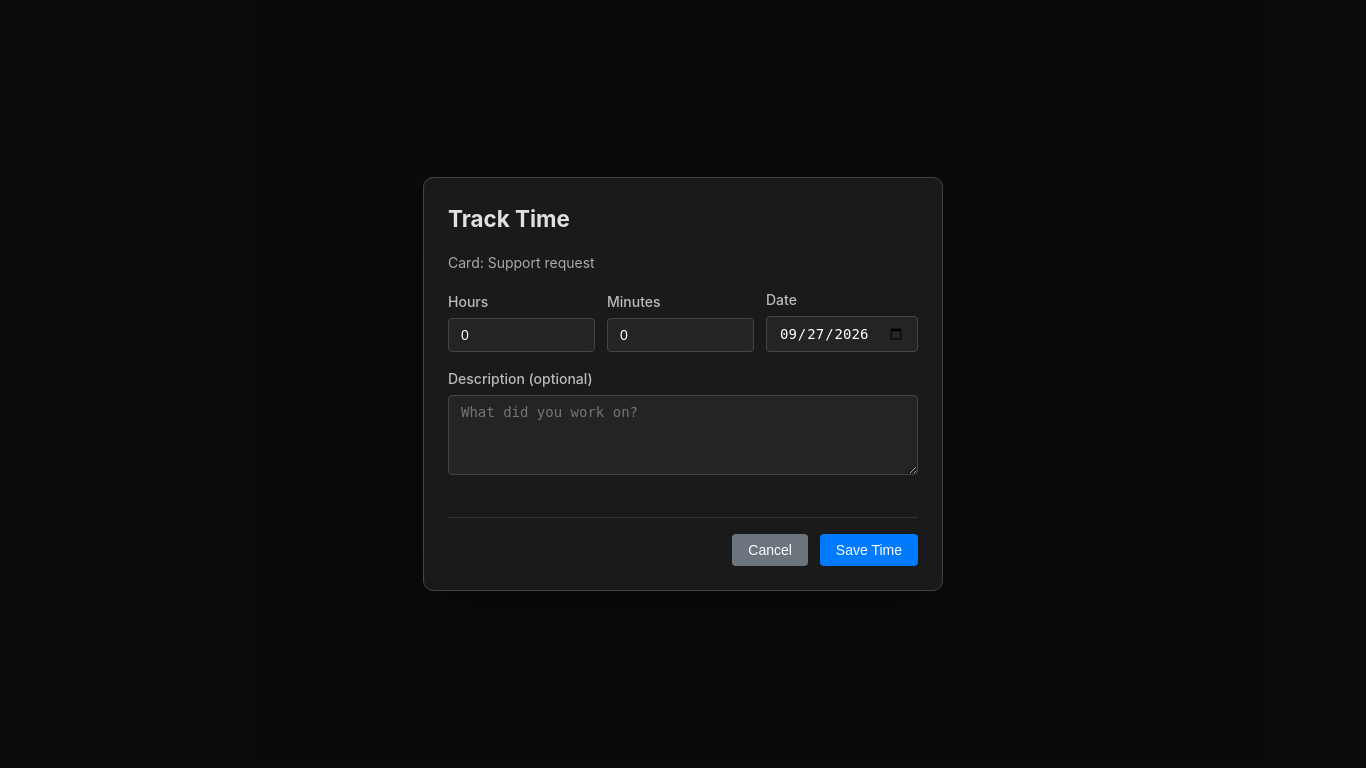
Test: TimeInput › saves a time entry and resets the form
The image size is (1366, 768).
Replace the text in the number field labelled "Hours" with "1" at (522, 335), box [448,318,595,352]
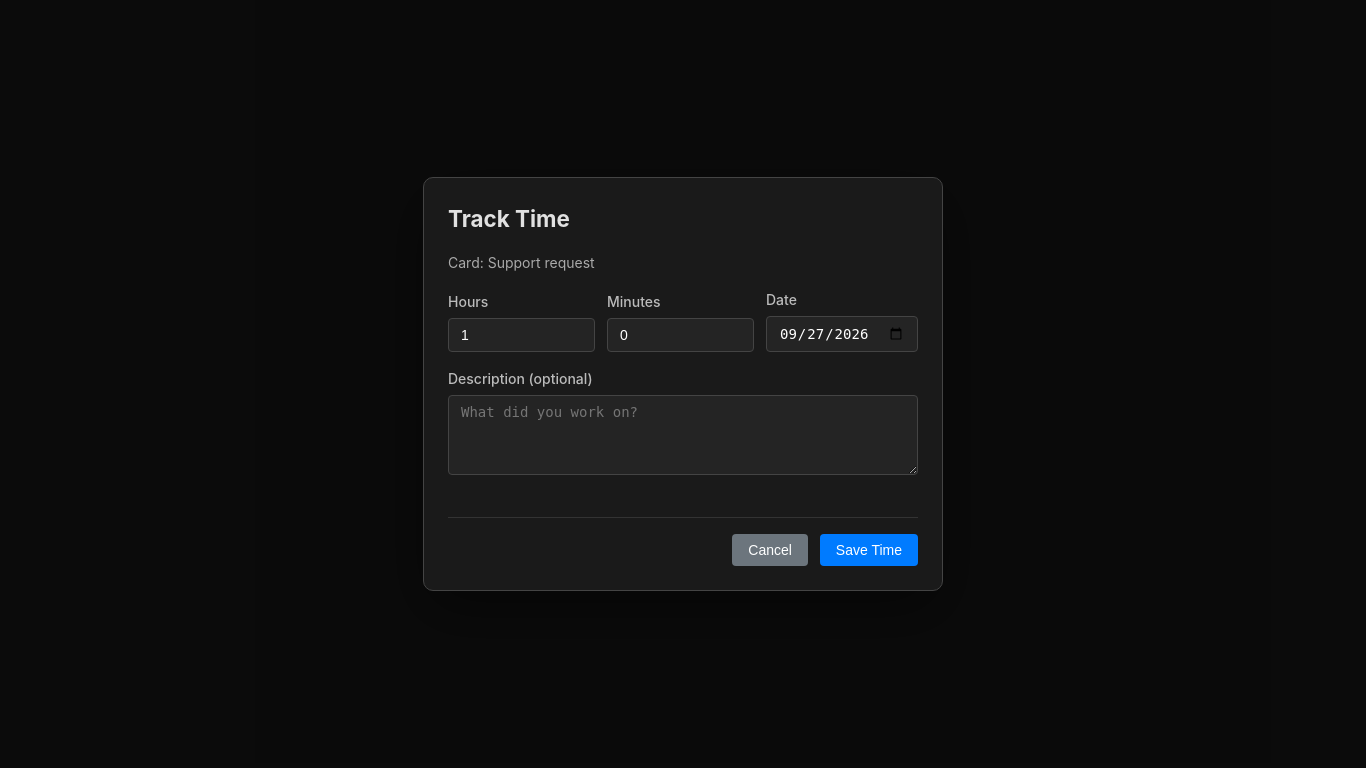
Replace the text in the number field labelled "Minutes" with "15" at (680, 335), box [607,318,754,352]
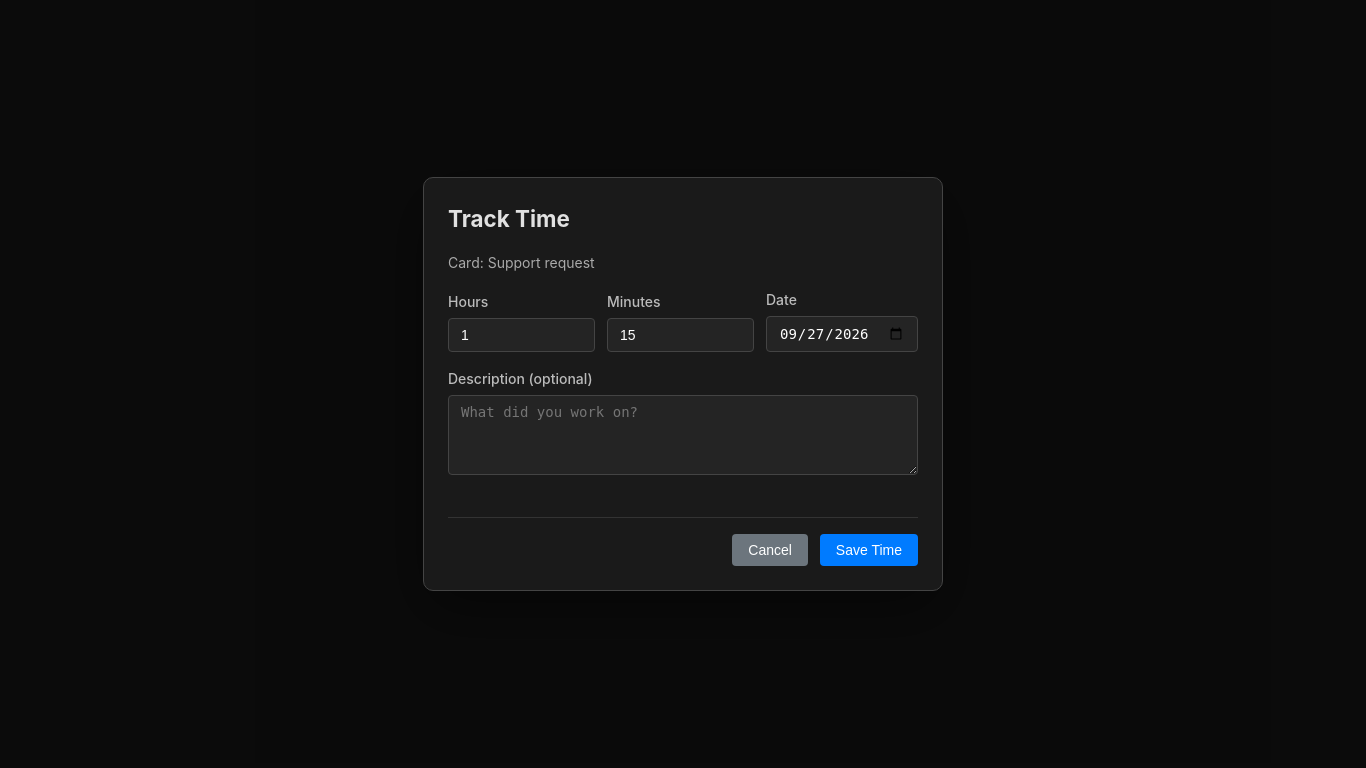
Type "2026-09-02" into the date field labelled "Date".
click(842, 334); type("2026-09-02")  # box [766,316,918,352]
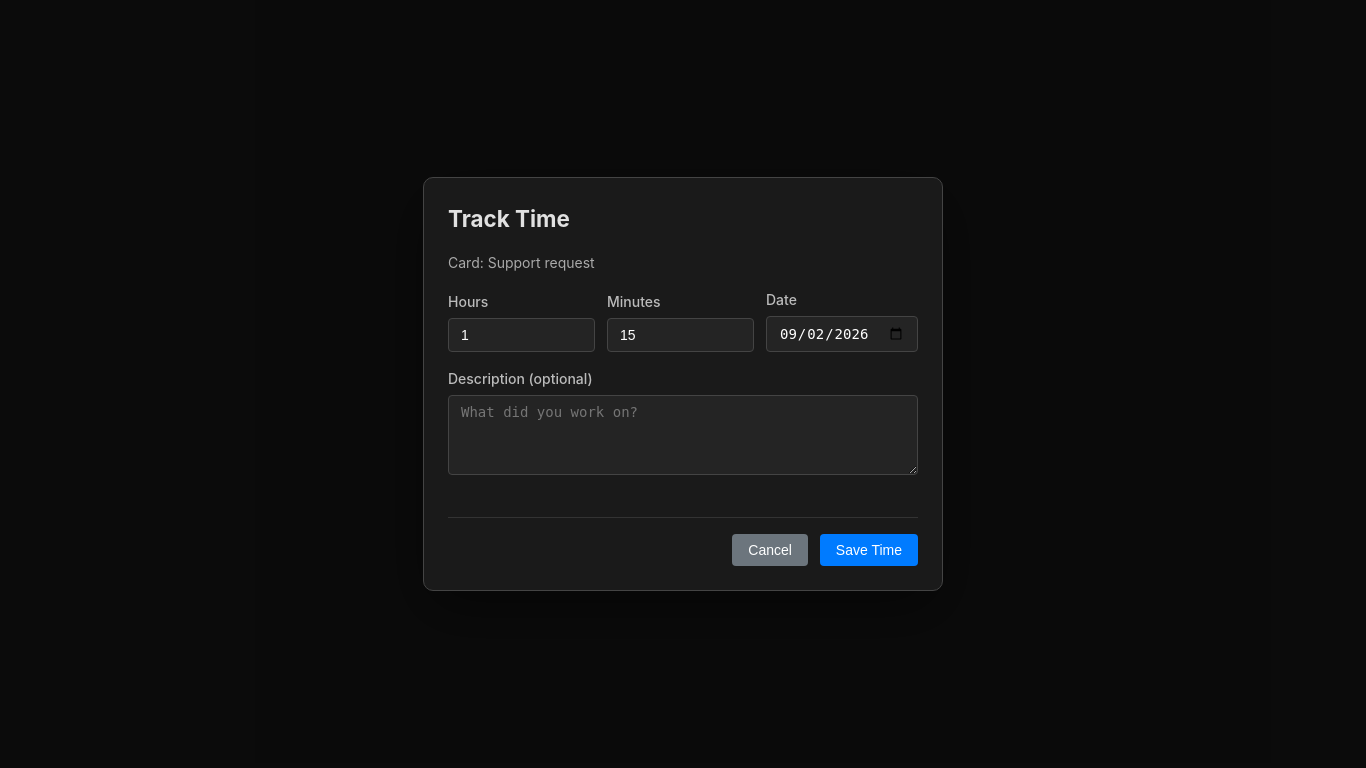
Type "  Fixed bug  " into the text box labelled "Description (optional)".
click(683, 435); type("  Fixed bug  ")  # box [448,395,918,475]
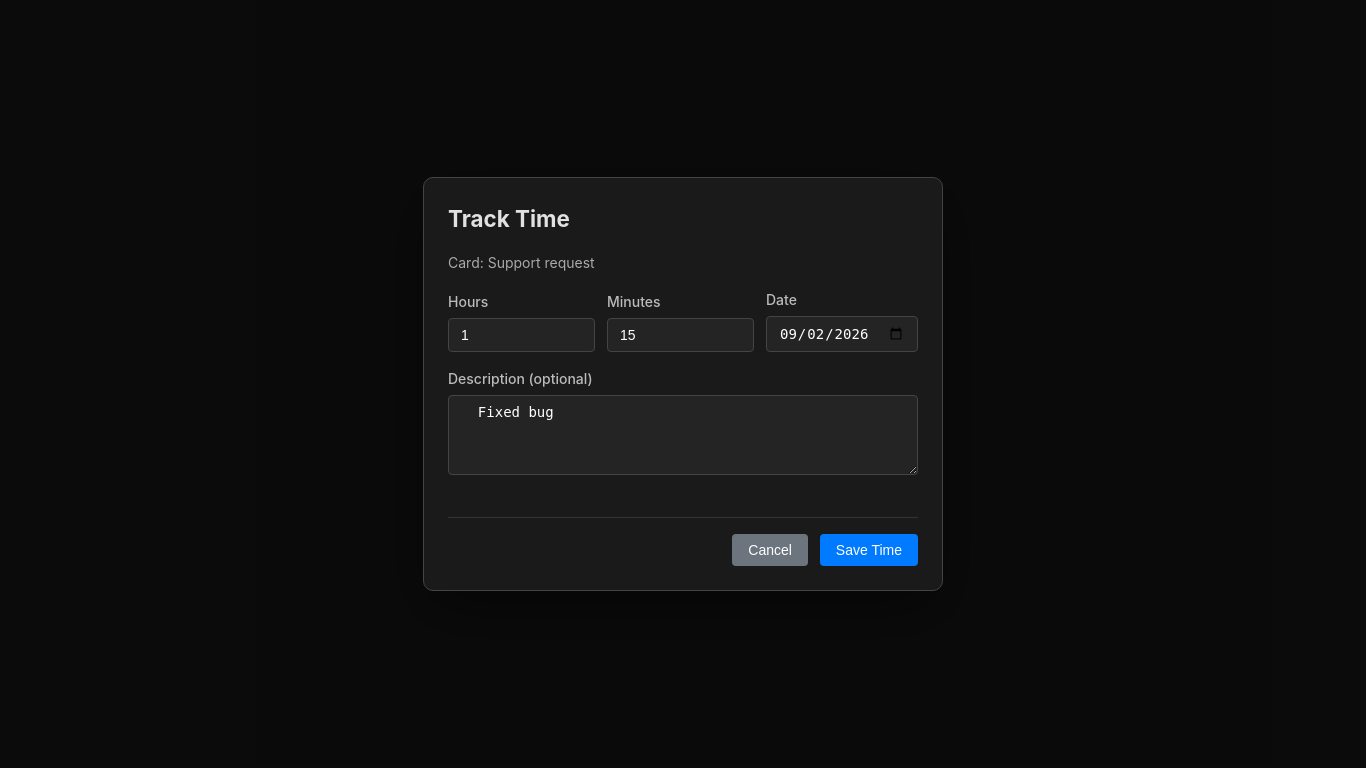
Click the button "Save Time".
click(869, 550)  # box [820,534,918,566]
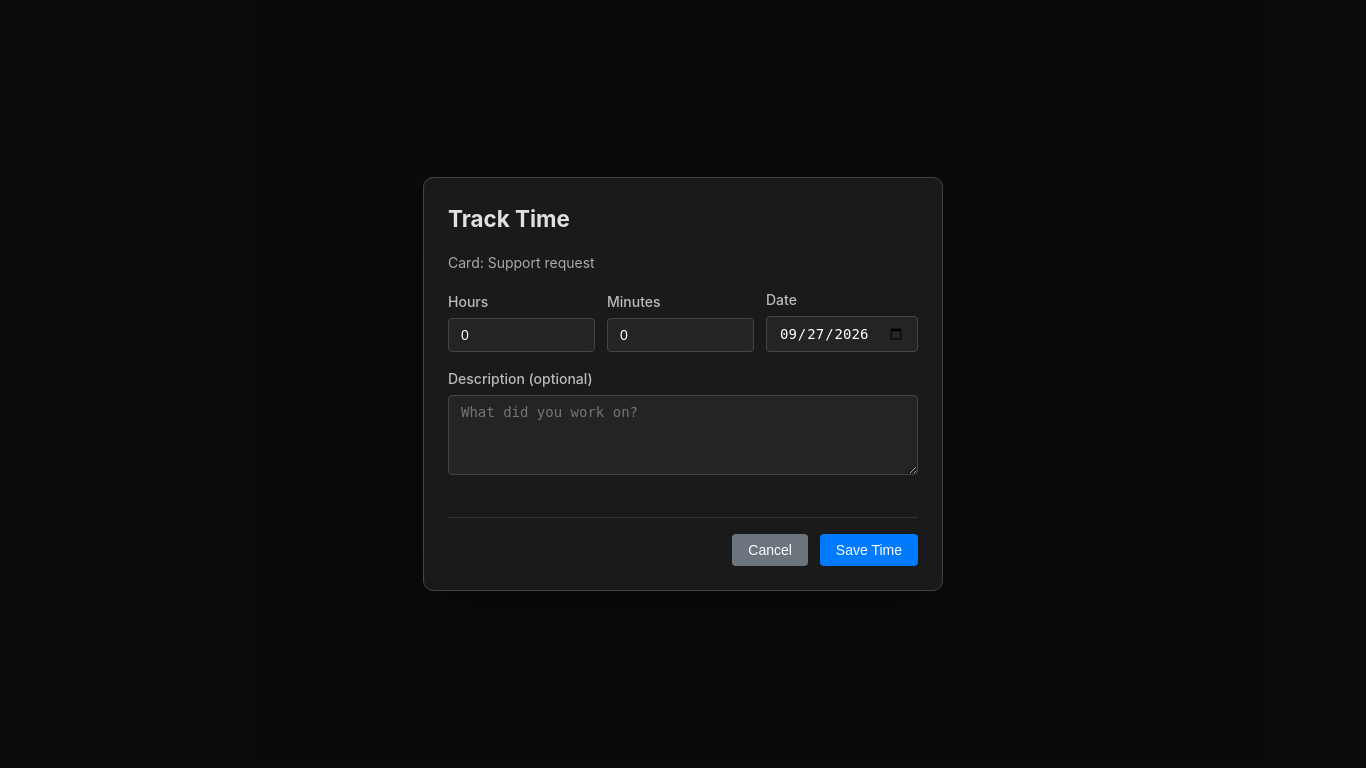
expect the number field labelled "Hours" holds "0": met, box [448,318,595,352]
expect the number field labelled "Minutes" holds "0": met, box [607,318,754,352]
expect the text box labelled "Description (optional)" is empty: met, box [448,395,918,475]
